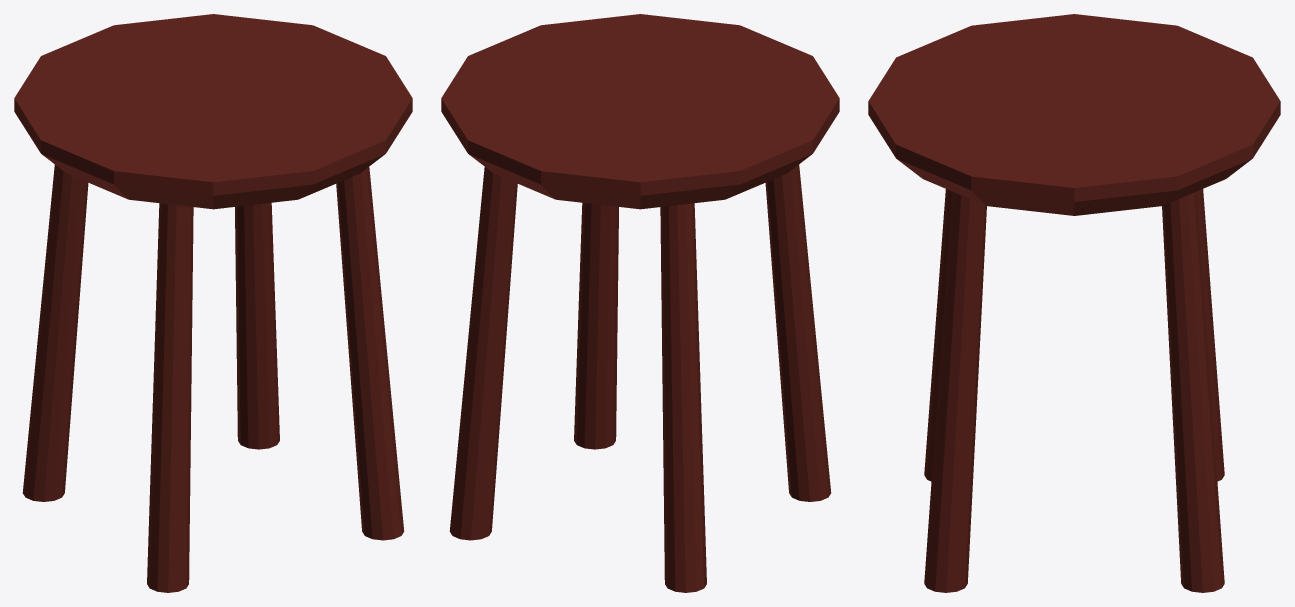
File: табурет.fbx
The picture shows the model from 3 angles, left to right: view 1: azimuth 30°, elevation 25°; view 2: azimuth 150°, elevation 25°; view 3: azimuth 270°, elevation 25°; orthographic projection. The views are drawn at different scales.
Parts seen in each view (by area): view 1: Цилиндр; view 2: Цилиндр; view 3: Цилиндр.
Part boxes in pixels (box(x1,y1,x2,y2)): Цилиндр: box(14, 14, 412, 592); Цилиндр: box(441, 14, 839, 592); Цилиндр: box(868, 14, 1280, 592).
Bounding box in the file's own units: 121 × 139 × 121.
